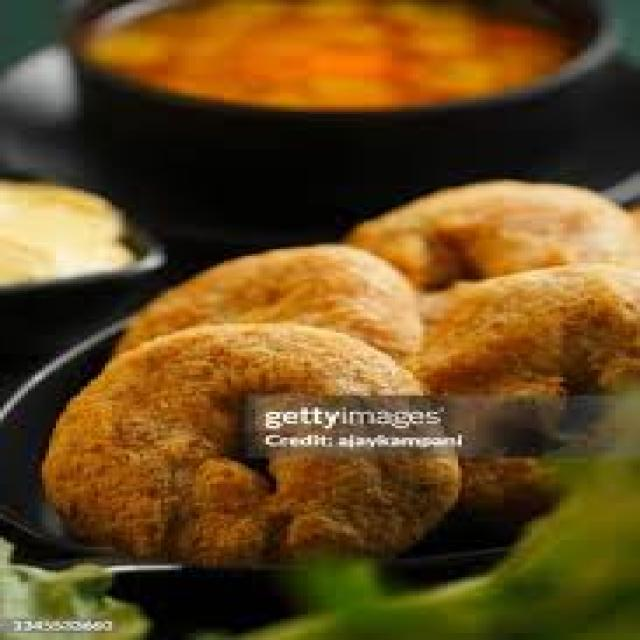MEDU VADA: (45, 329, 459, 558), (112, 250, 421, 376), (349, 178, 637, 304)
